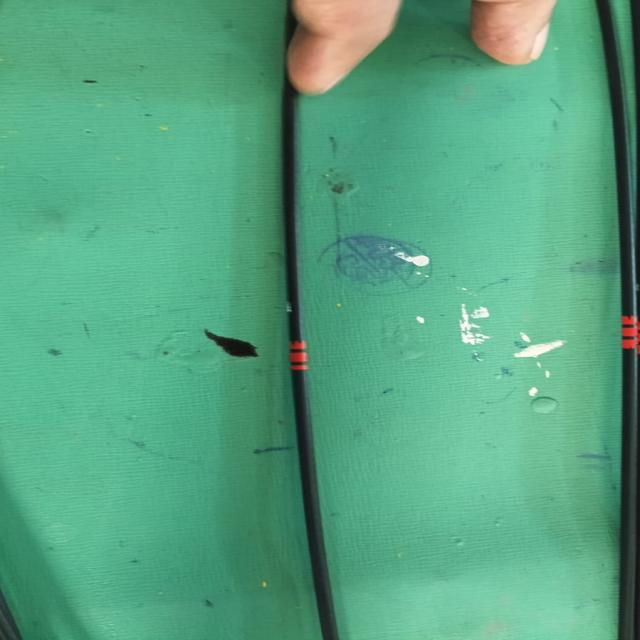red: (618, 314, 640, 349), (286, 340, 311, 370)
